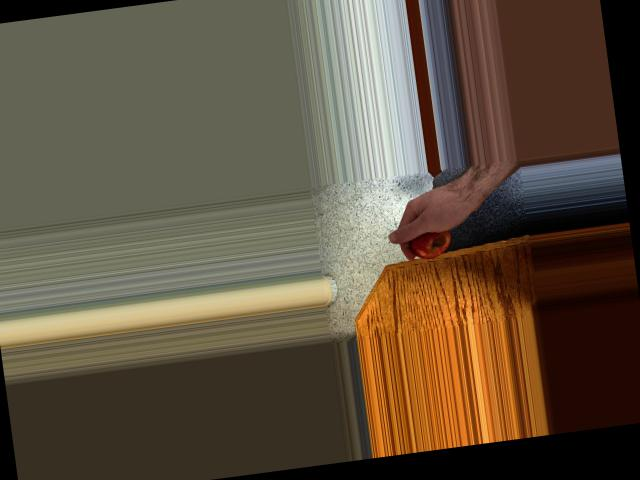apple: (405, 216, 453, 261)
